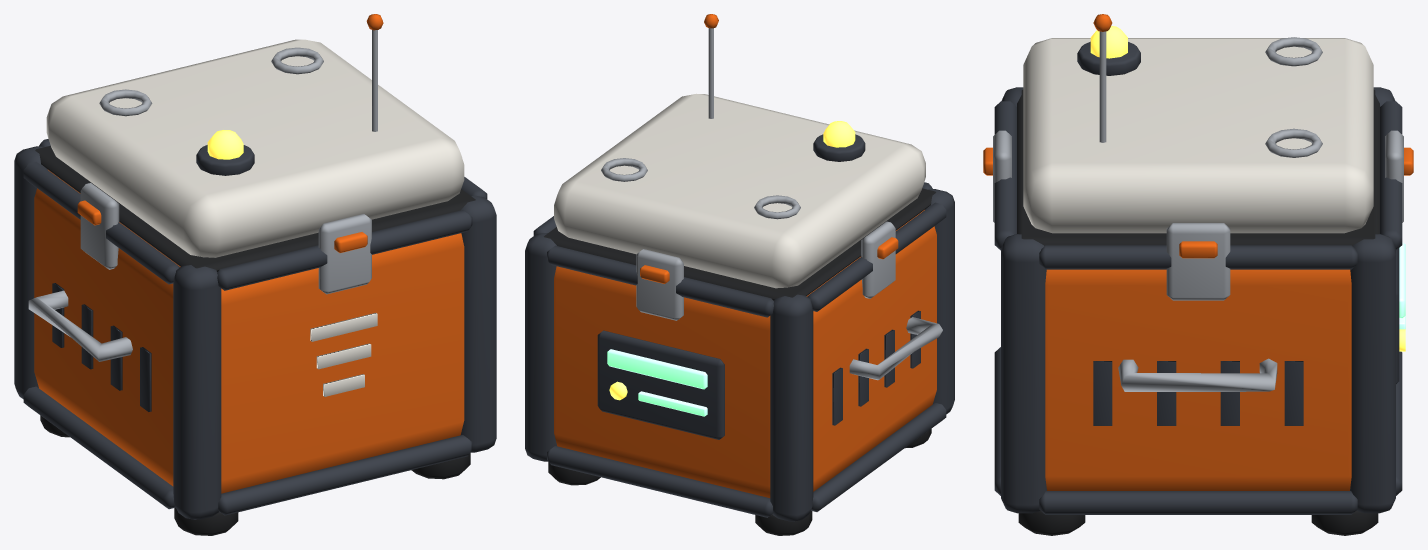
Rendered from crate_supply.glb.
3 renders of one model, left to right at view 1: azimuth 30°, elevation 25°; view 2: azimuth 150°, elevation 25°; view 3: azimuth 270°, elevation 25°, orthographic. The views are drawn at different scales.
Visible parts, largest first — view 1: Body; view 2: Body; view 3: Body.
Boxes of the visible parts, x1,y1,x2,y2 form: Body: [14, 14, 496, 535]; Body: [525, 14, 954, 535]; Body: [983, 14, 1413, 535].
Size of the model in its own units: 1.53 by 1.69 by 1.35.
